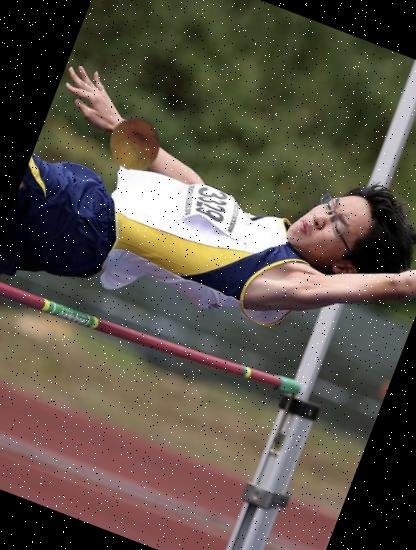Mandarine: (101, 111, 168, 179)
